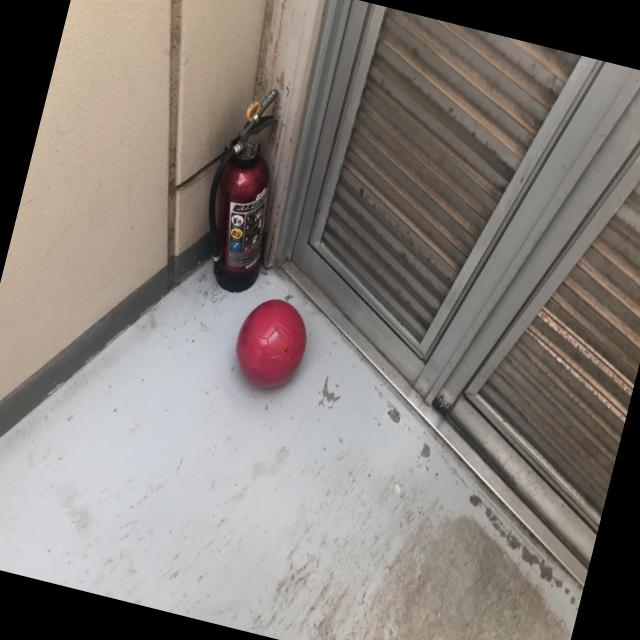red_ball: (227, 292, 316, 398)
